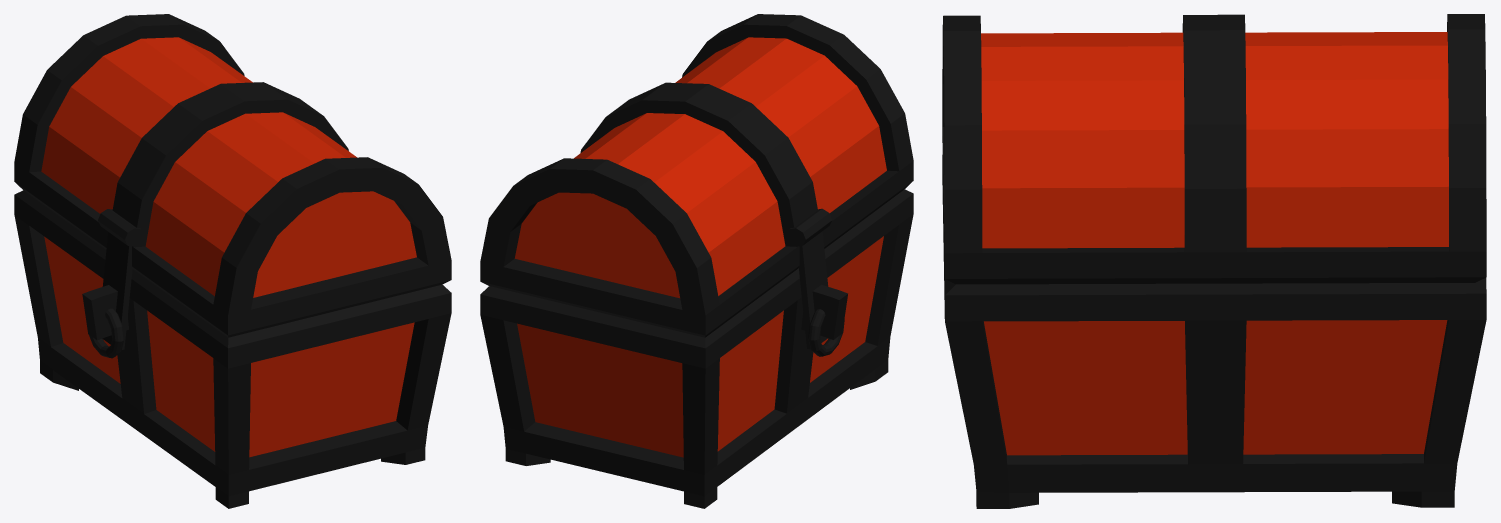
3 renders of one model, left to right at view 1: azimuth 30°, elevation 25°; view 2: azimuth 150°, elevation 25°; view 3: azimuth 270°, elevation 25°, orthographic. The views are drawn at different scales.
Visible parts, largest first — view 1: 柱体.001; view 2: 柱体.001; view 3: 柱体.001.
Part boxes in pixels (x1,y1,x2,y2): 柱体.001: [14, 14, 451, 508]; 柱体.001: [480, 14, 913, 508]; 柱体.001: [942, 14, 1486, 508].
Size of the model in its own units: 1732 by 2085 by 2445.
